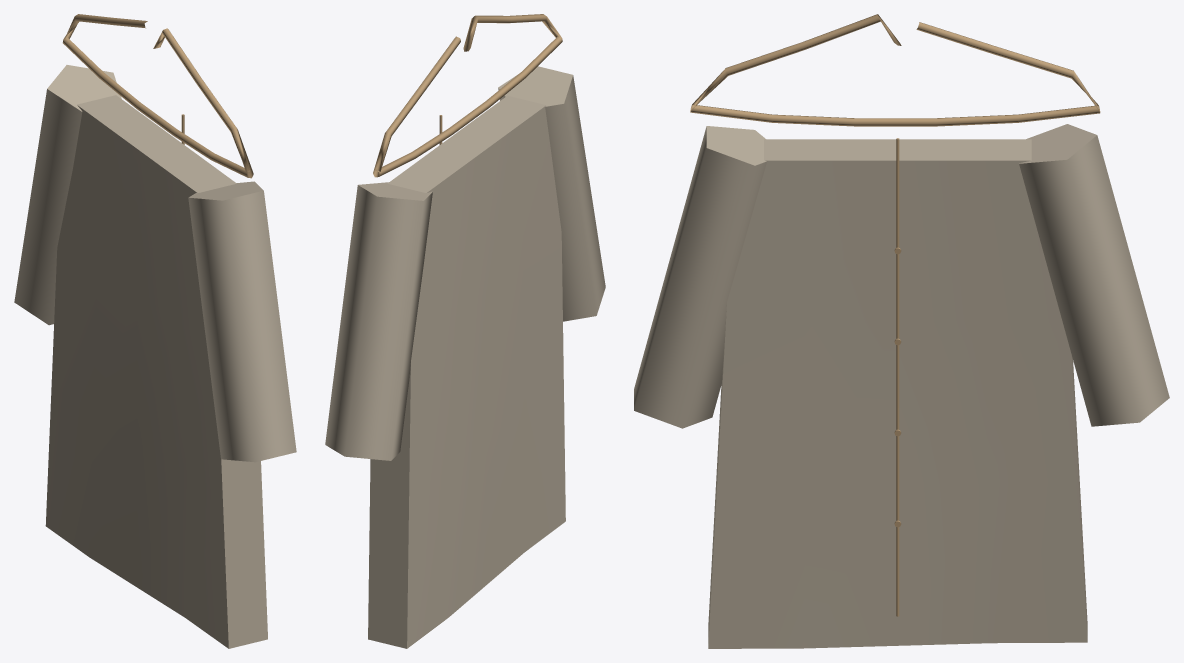
The model's file is shirt-lightweight-408142c1c1.glb.
3 views of the same model, side by side, from view 1: azimuth 30°, elevation 25°; view 2: azimuth 150°, elevation 25°; view 3: azimuth 270°, elevation 25° (orthographic). The views are drawn at different scales.
Parts seen in each view (by area): view 1: textile, oak; view 2: textile, oak; view 3: textile, oak.
Boxes of the visible parts, x1=… form: textile: x1=14, y1=65, x2=296, y2=648; oak: x1=62, y1=14, x2=253, y2=178; textile: x1=325, y1=66, x2=605, y2=648; oak: x1=373, y1=14, x2=562, y2=177; textile: x1=634, y1=124, x2=1169, y2=648; oak: x1=690, y1=14, x2=1100, y2=616.
Size of the model in its own units: 0.0761 by 0.6141 by 0.4802.
